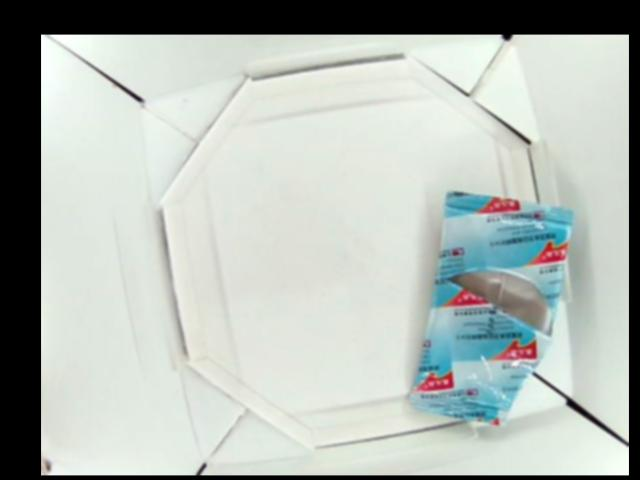Medicine: (409, 188, 573, 428)
